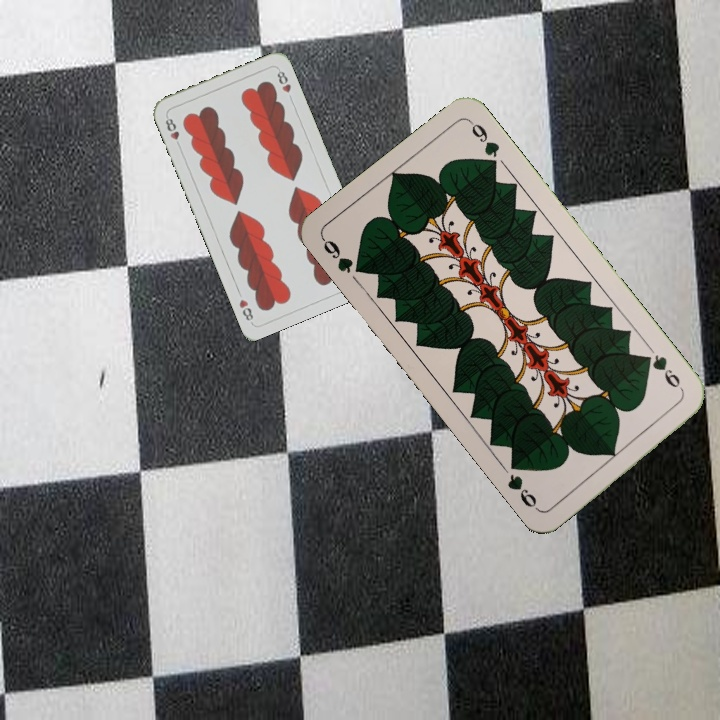G9: (639, 350, 687, 396), (318, 234, 369, 276)
H8: (161, 112, 184, 151)
